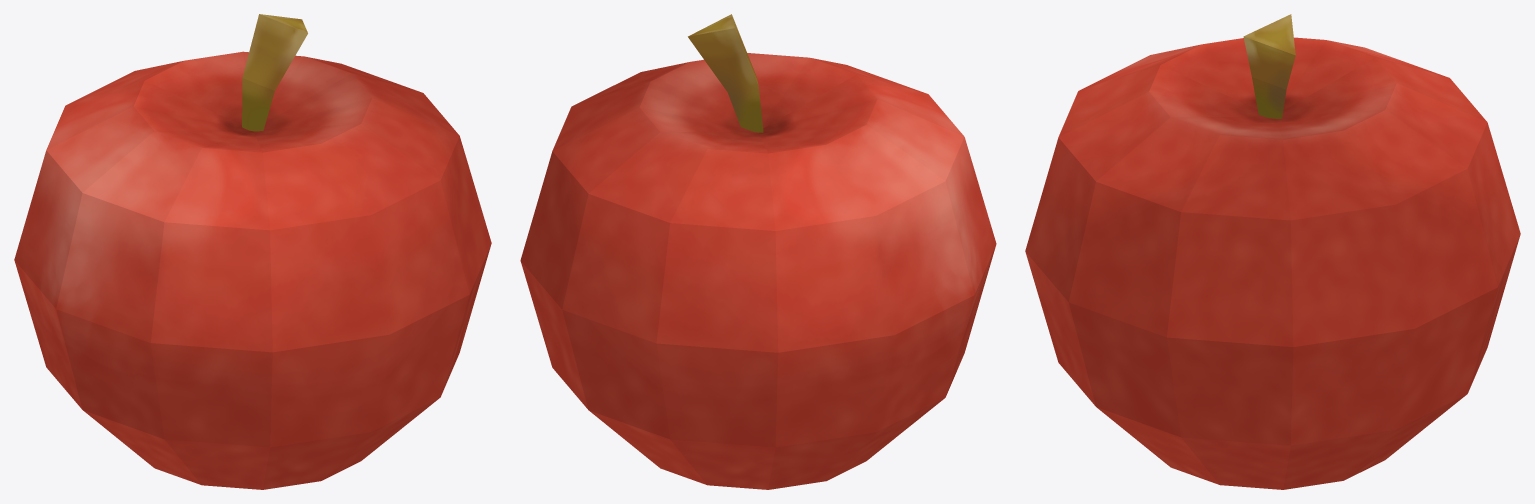
The model's file is red_apple.gltf.
The picture shows the model from 3 angles, left to right: view 1: azimuth 30°, elevation 25°; view 2: azimuth 150°, elevation 25°; view 3: azimuth 270°, elevation 25°; orthographic projection. The views are drawn at different scales.
Parts seen in each view (by area): view 1: fruis_and_vegetables.038; view 2: fruis_and_vegetables.038; view 3: fruis_and_vegetables.038.
Boxes of the visible parts, box(x1,y1,x2,y2) form: fruis_and_vegetables.038: box(14, 14, 491, 489); fruis_and_vegetables.038: box(520, 14, 996, 489); fruis_and_vegetables.038: box(1025, 14, 1520, 489).
Bounding box in the file's own units: 0.1462 × 0.1403 × 0.1462.
Materials: 1 (1 with a texture image).
